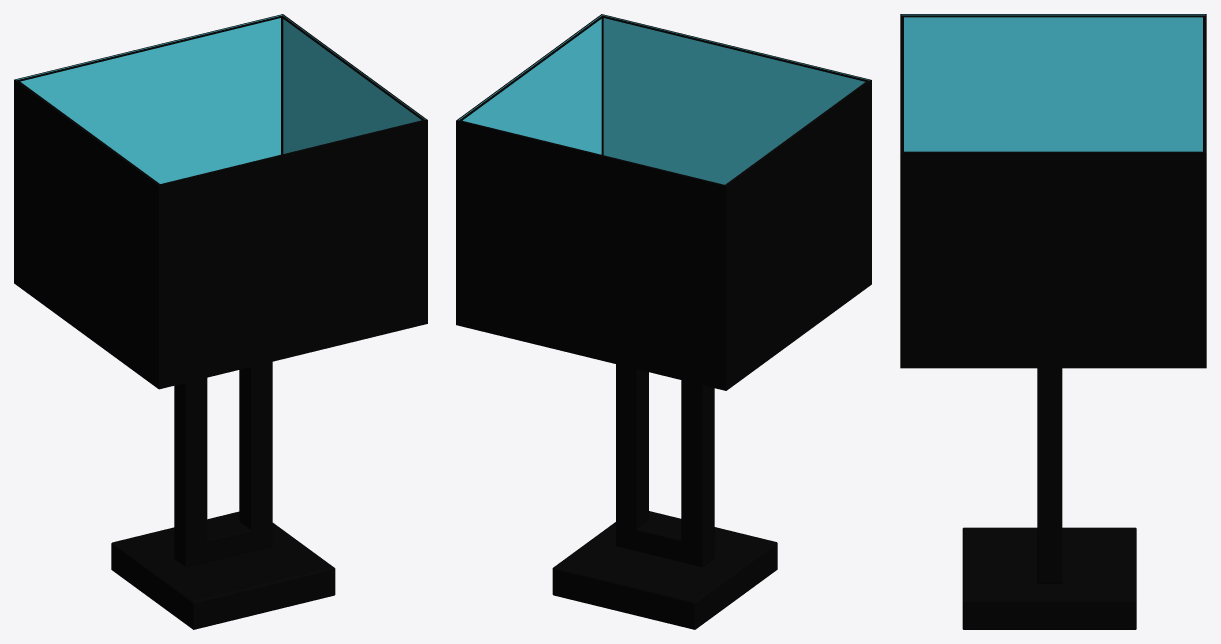
Rendered from SM_BedroomLight_003.FBX.
3 views of the same model, side by side, from view 1: azimuth 30°, elevation 25°; view 2: azimuth 150°, elevation 25°; view 3: azimuth 270°, elevation 25° (orthographic). The views are drawn at different scales.
Parts seen in each view (by area): view 1: SM_BedroomLight_003; view 2: SM_BedroomLight_003; view 3: SM_BedroomLight_003.
Part boxes in pixels (x1,y1,x2,y2): SM_BedroomLight_003: (14, 14, 427, 629); SM_BedroomLight_003: (456, 14, 871, 629); SM_BedroomLight_003: (900, 14, 1206, 629).
Bounding box in the file's own units: 32.11 × 29.96 × 54.96.
